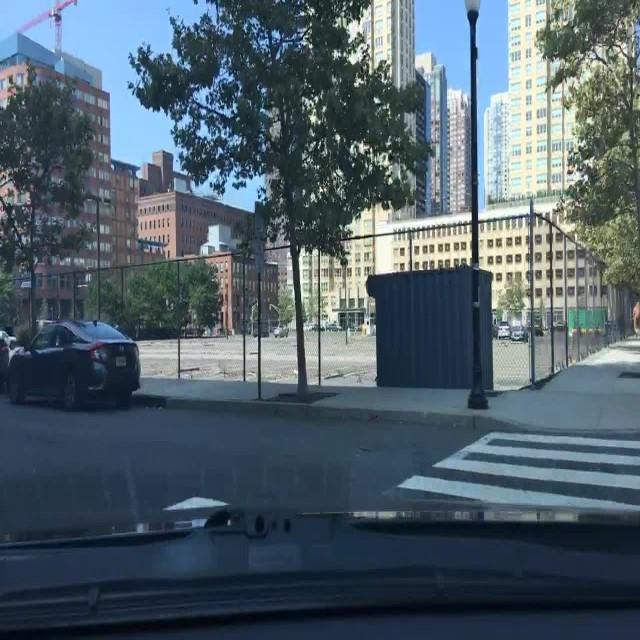normal: (4, 318, 143, 409)
